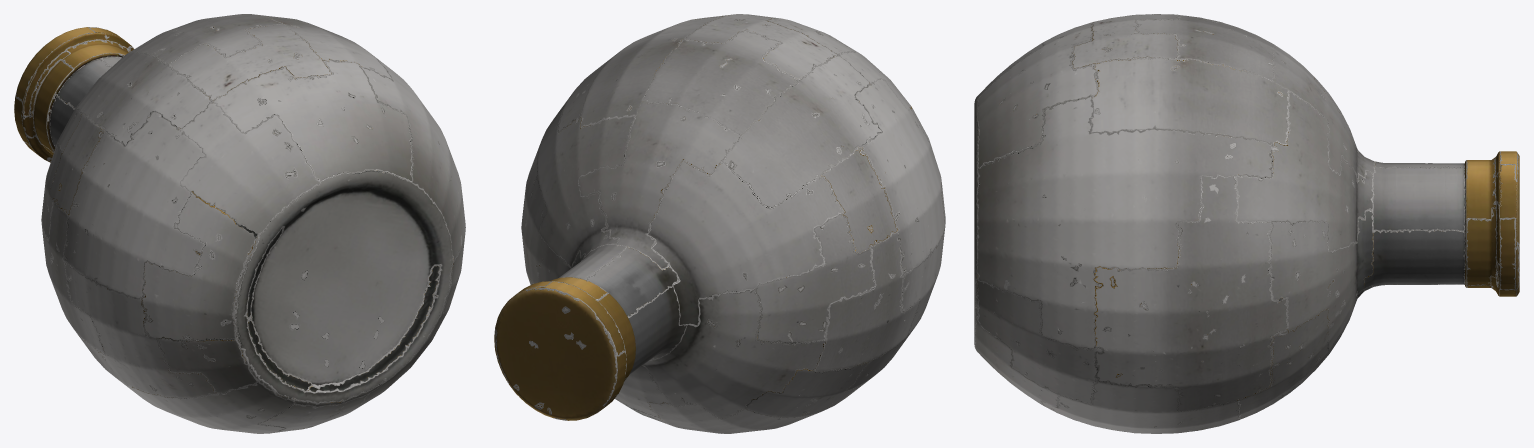
3 renders of one model, left to right at view 1: azimuth 30°, elevation 25°; view 2: azimuth 150°, elevation 25°; view 3: azimuth 270°, elevation 25°, orthographic.
Bounding box in the file's own units: 1.41 × 1.4 × 1.82.
Materials: 1 (1 with a texture image).
